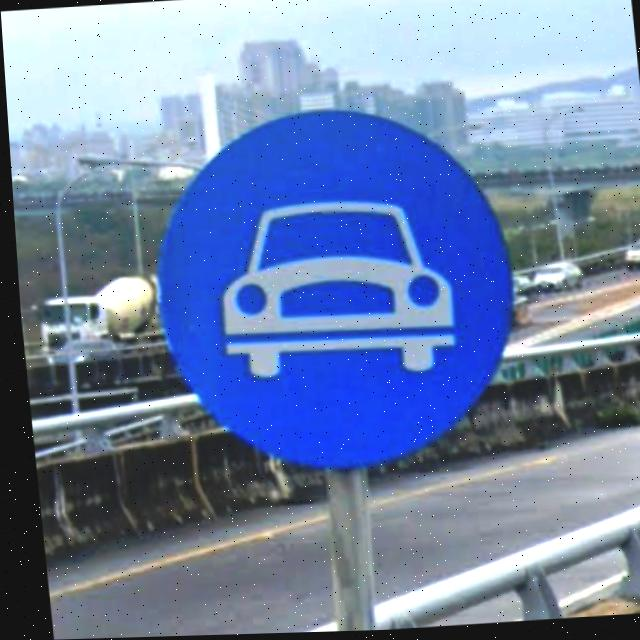car: (134, 97, 526, 483)
